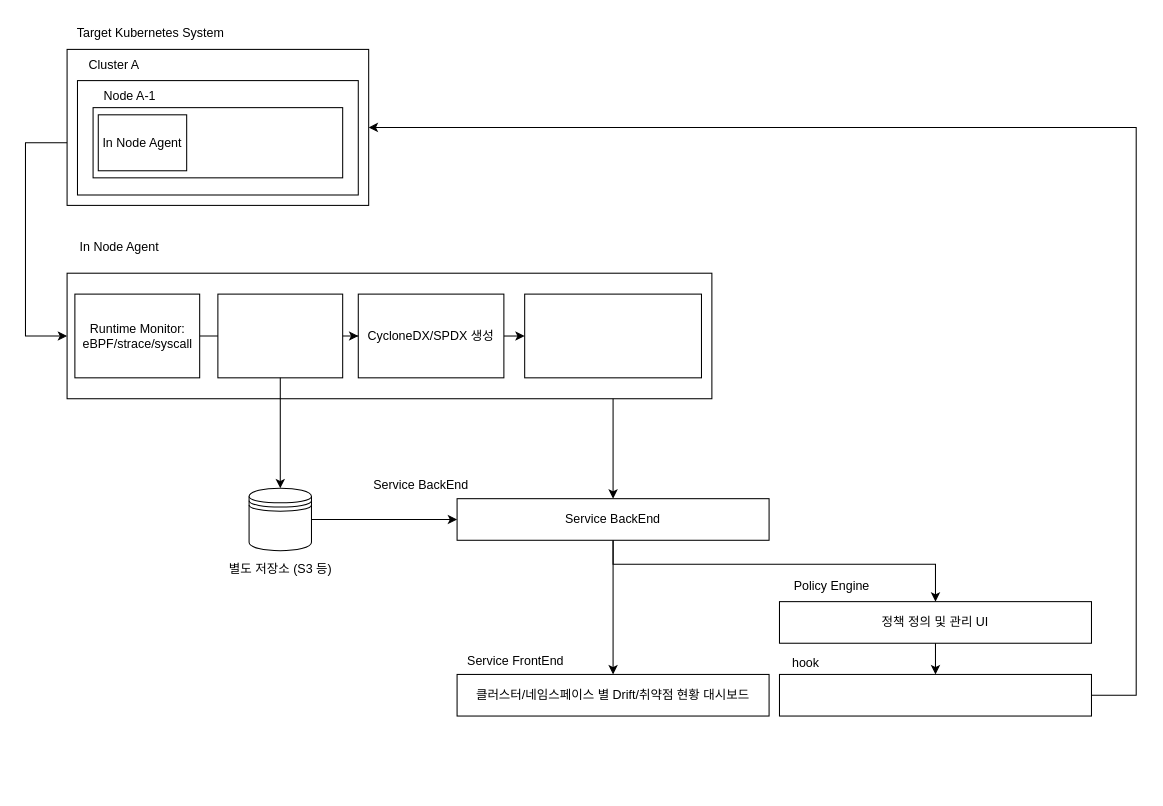
This 1163x806 diagram has some shape labels left out. The shapes that lost their labels are listed below. From the top down, each one's centre as x and y in pixels, then its label:
At point (280, 335): "SBOM Gen".
At point (612, 335): "Drift Detector (python/Go) + CVE Mapper (OSV/Trivy/Syft/Grype)".
At point (934, 694): "Admission Webhook / Alert System".
